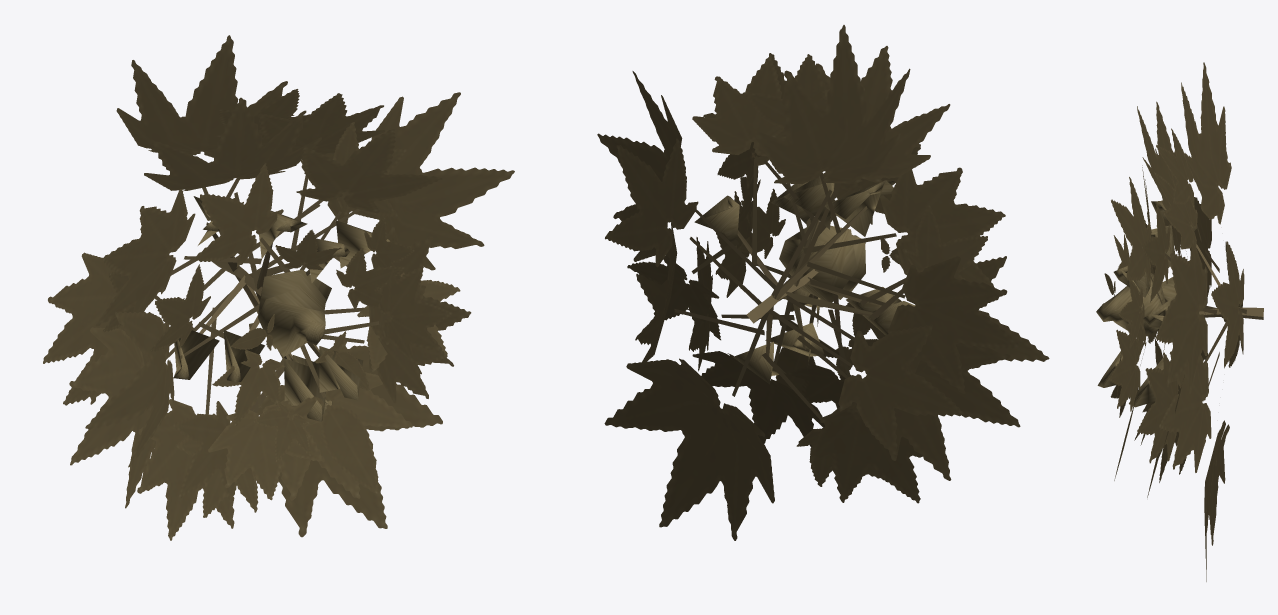
Rendered from p_kush_flowering_c4_cards.obj.
The picture shows the model from 3 angles, left to right: view 1: azimuth 30°, elevation 25°; view 2: azimuth 150°, elevation 25°; view 3: azimuth 270°, elevation 25°; orthographic projection. The views are drawn at different scales.
Bounding box in the file's own units: 1.22 × 1.49 × 0.444.
Materials: 1 (1 with a texture image).
